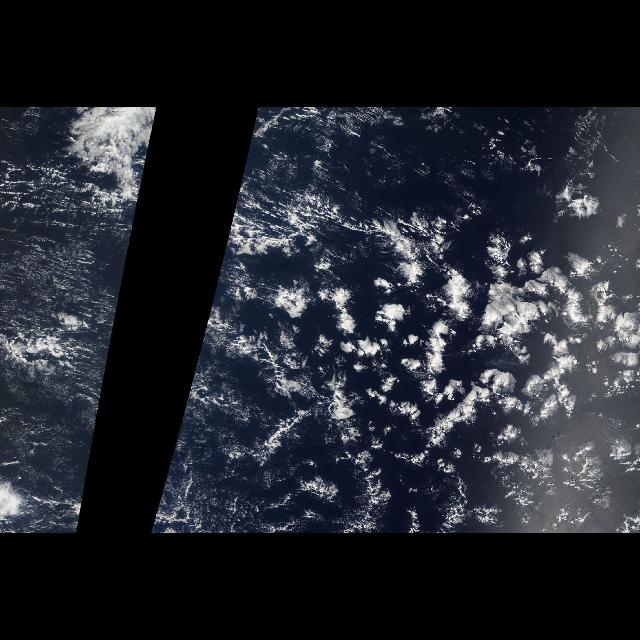Fish: (232, 452, 630, 528)
Flower: (274, 177, 640, 471)
Sugar: (0, 182, 142, 514), (168, 296, 214, 466)
